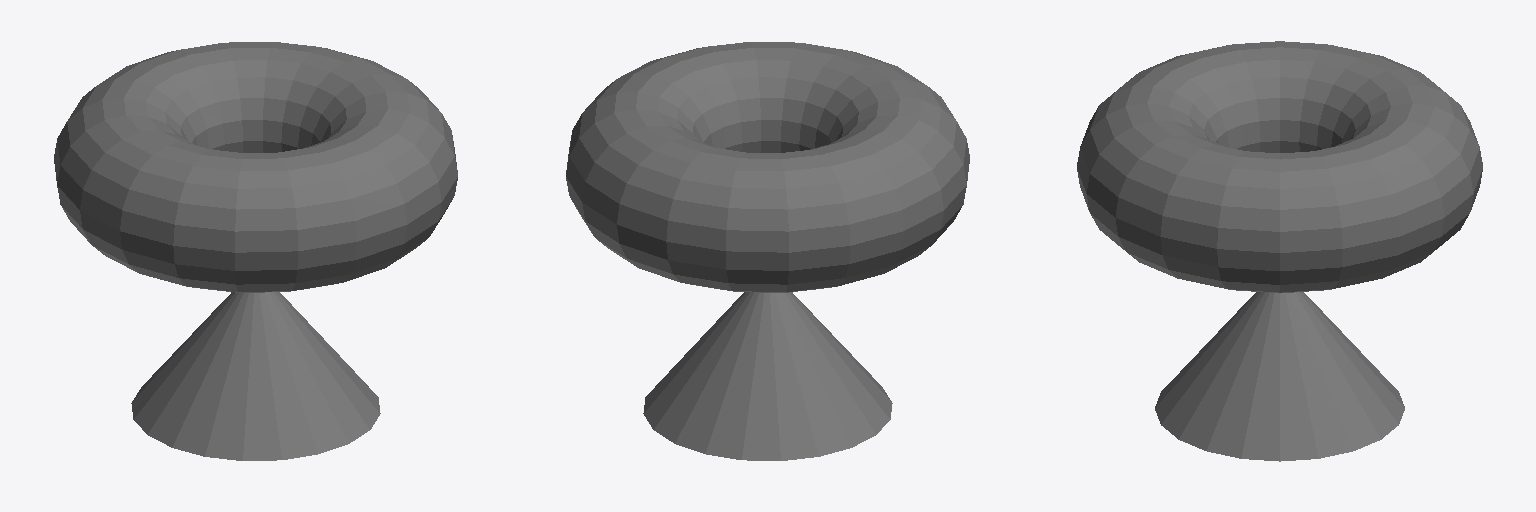
File: ring.obj
3 renders of one model, left to right at view 1: azimuth 30°, elevation 25°; view 2: azimuth 150°, elevation 25°; view 3: azimuth 270°, elevation 25°, orthographic.
Visible parts, largest first — view 1: ring:pTorus2; view 2: ring:pTorus2; view 3: ring:pTorus2.
Boxes of the visible parts, box(x1,y1,x2,y2) form: ring:pTorus2: box(54, 42, 457, 460); ring:pTorus2: box(566, 42, 969, 460); ring:pTorus2: box(1077, 41, 1482, 461).
Size of the model in its own units: 0.4328 by 0.3583 by 0.4328.